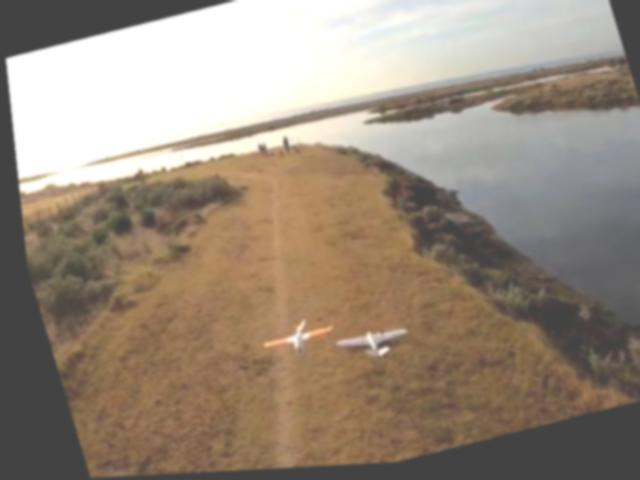uav: (248, 312, 329, 360), (322, 324, 404, 370)
